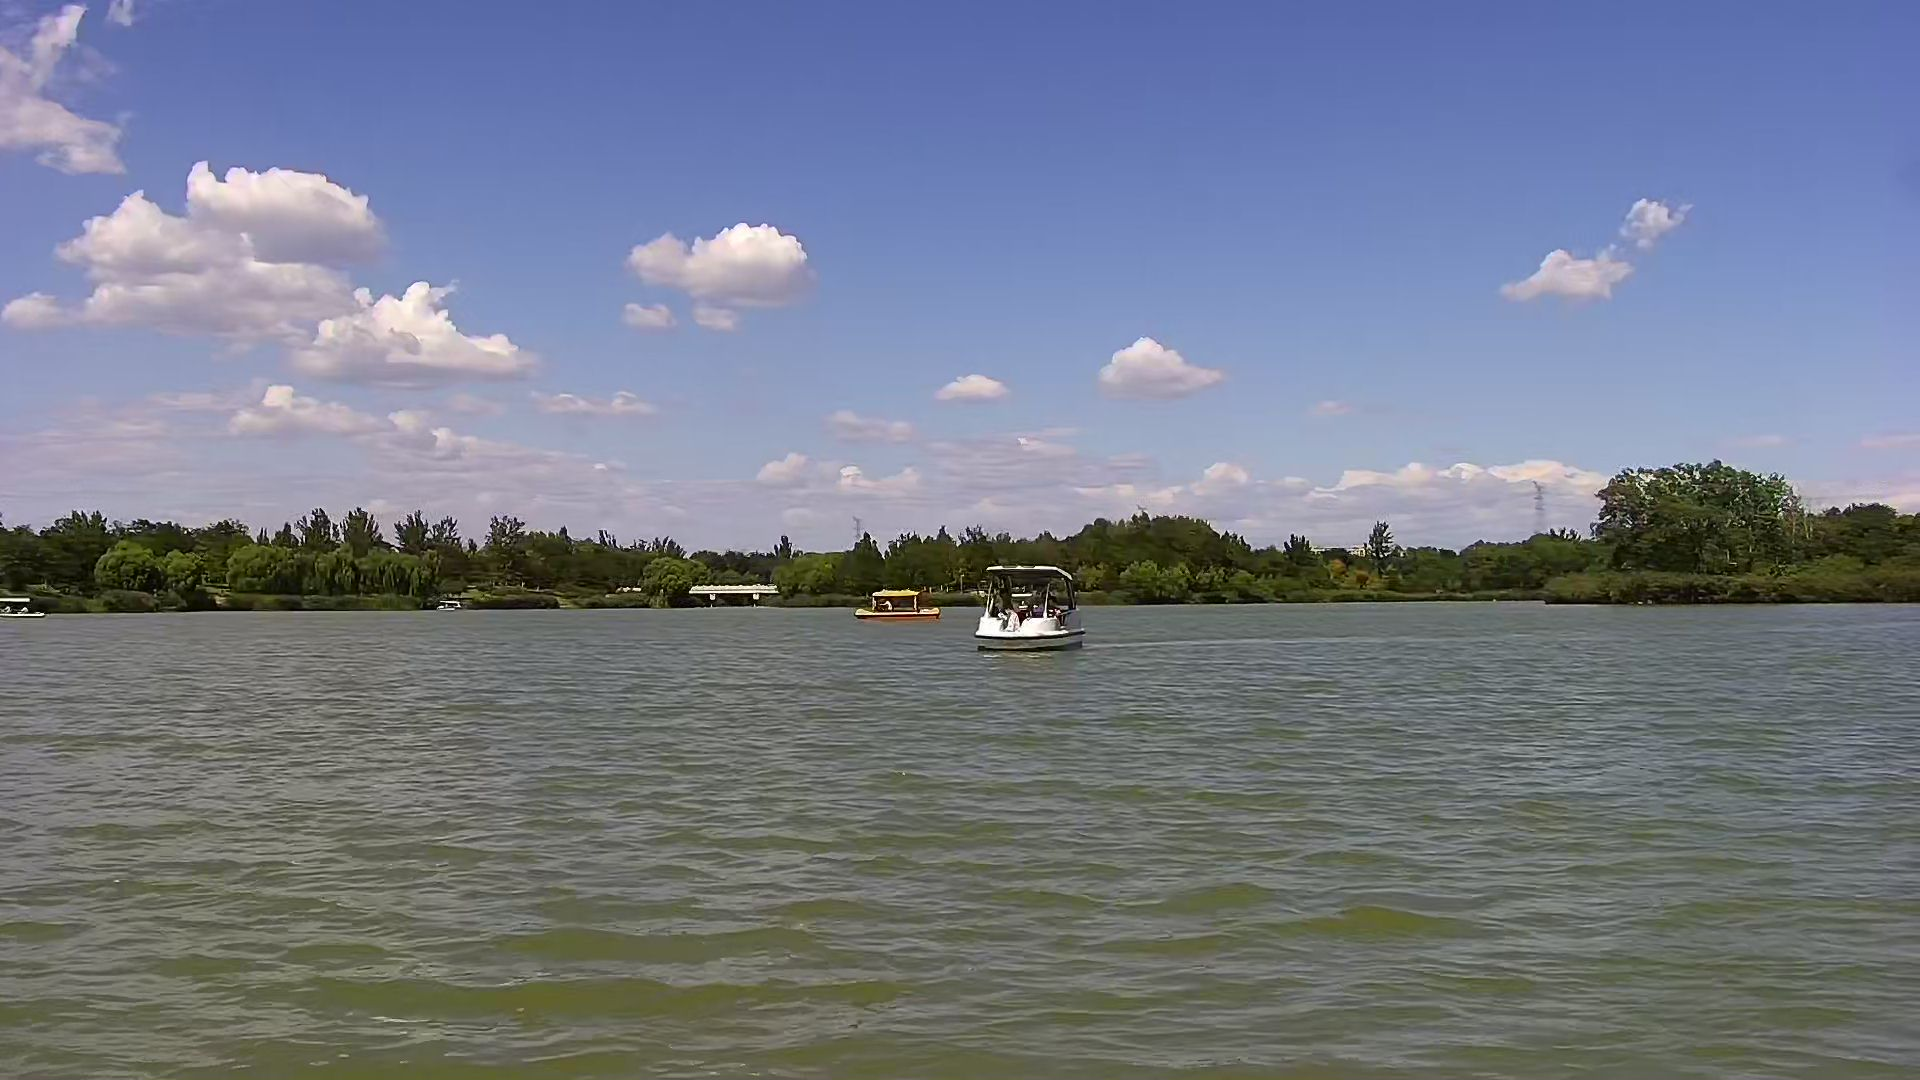boat: (977, 558, 1080, 665), (860, 587, 943, 626), (3, 593, 41, 620)
bridge: (695, 580, 774, 609)
